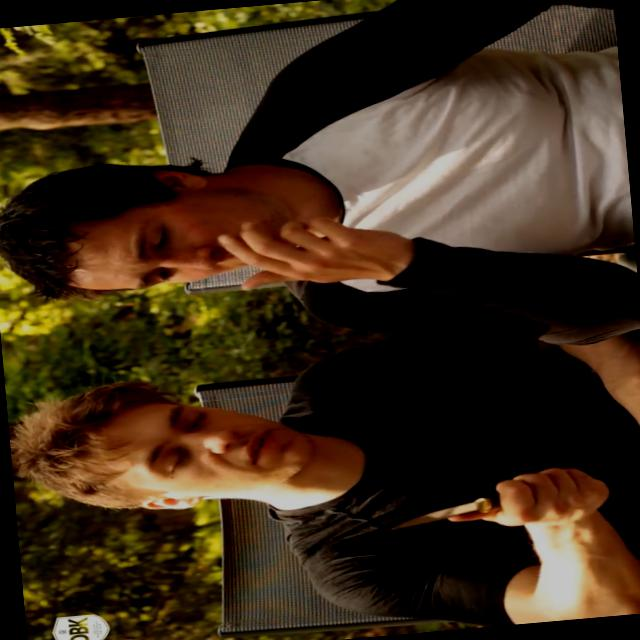knife: (369, 454, 585, 546)
